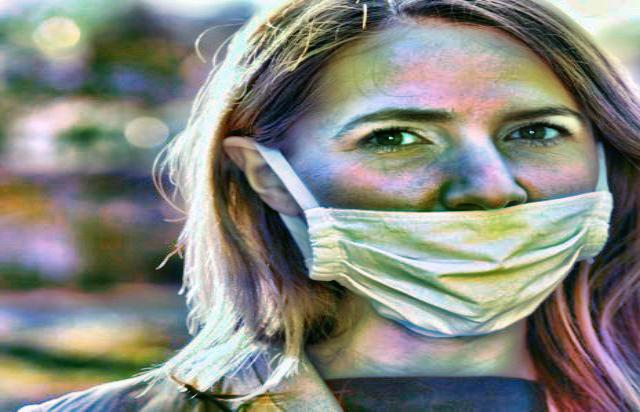mask_weared_incorrect: (184, 1, 615, 341)
